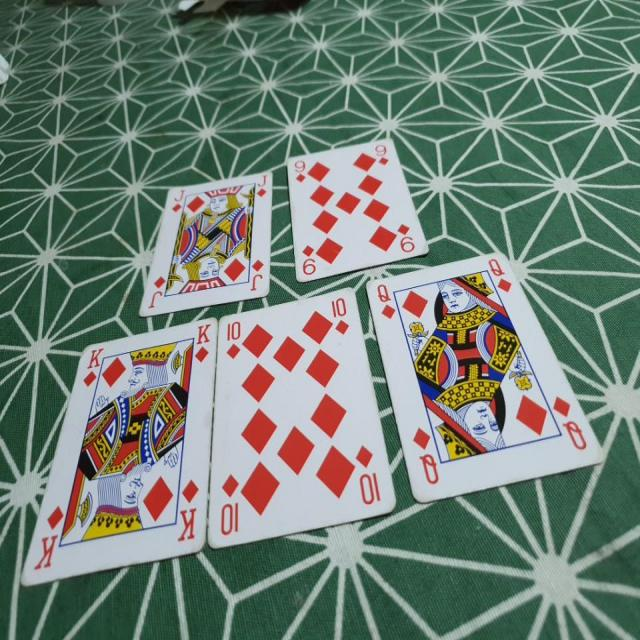10 Diamonds: (206, 287, 395, 550)
9 Diamonds: (284, 138, 429, 284)
J Diamonds: (138, 167, 271, 314)
K Diamonds: (19, 316, 218, 590)
Q Diamonds: (366, 249, 607, 504)
